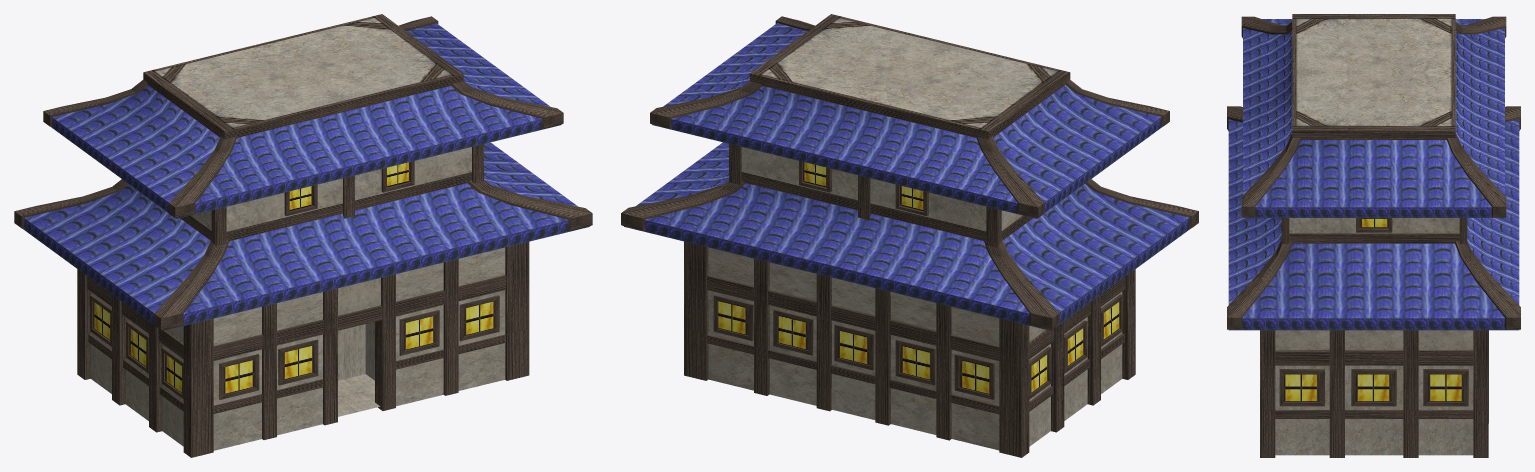
File: casa-oriental-05-b.fbx
3 views of the same model, side by side, from view 1: azimuth 30°, elevation 25°; view 2: azimuth 150°, elevation 25°; view 3: azimuth 270°, elevation 25° (orthographic).
Visible parts, largest first — view 1: Cube.000, Cube.002, Cube.001; view 2: Cube.000, Cube.002; view 3: Cube.000, Cube.002.
Boxes of the visible parts, x1,y1,x2,y2 form: Cube.000: [14, 14, 592, 457]; Cube.002: [93, 162, 495, 394]; Cube.001: [338, 322, 380, 416]; Cube.000: [621, 14, 1198, 457]; Cube.002: [717, 162, 1119, 394]; Cube.000: [1227, 14, 1520, 457]; Cube.002: [1284, 218, 1463, 401].
Size of the model in its own units: 9.14 by 6.11 by 5.37.
